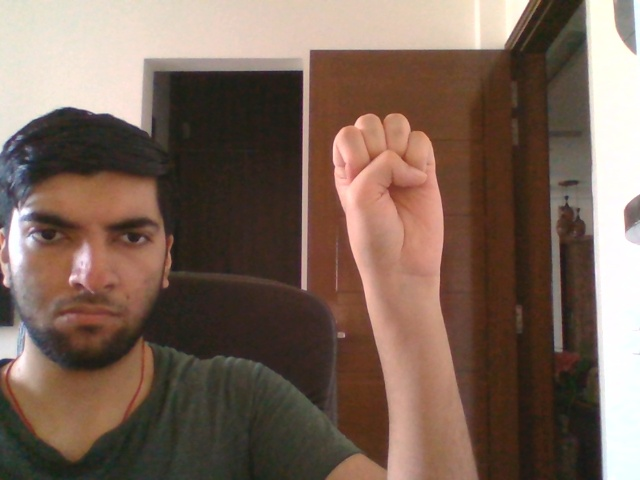LetterS: (330, 110, 448, 281)
